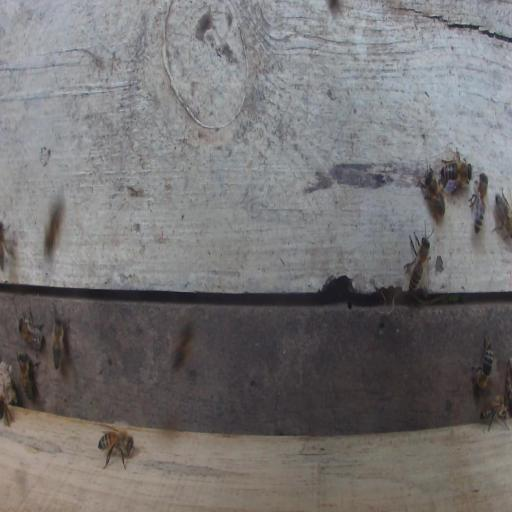nonpollenbee: (404, 227, 434, 295), (98, 426, 135, 469), (418, 161, 446, 216), (468, 171, 489, 235), (44, 197, 66, 257), (470, 335, 492, 391), (170, 321, 195, 369), (18, 307, 45, 351), (480, 393, 510, 432), (440, 152, 473, 184), (17, 351, 37, 401), (492, 189, 512, 238), (0, 221, 18, 269), (52, 315, 64, 371), (0, 393, 15, 426)
